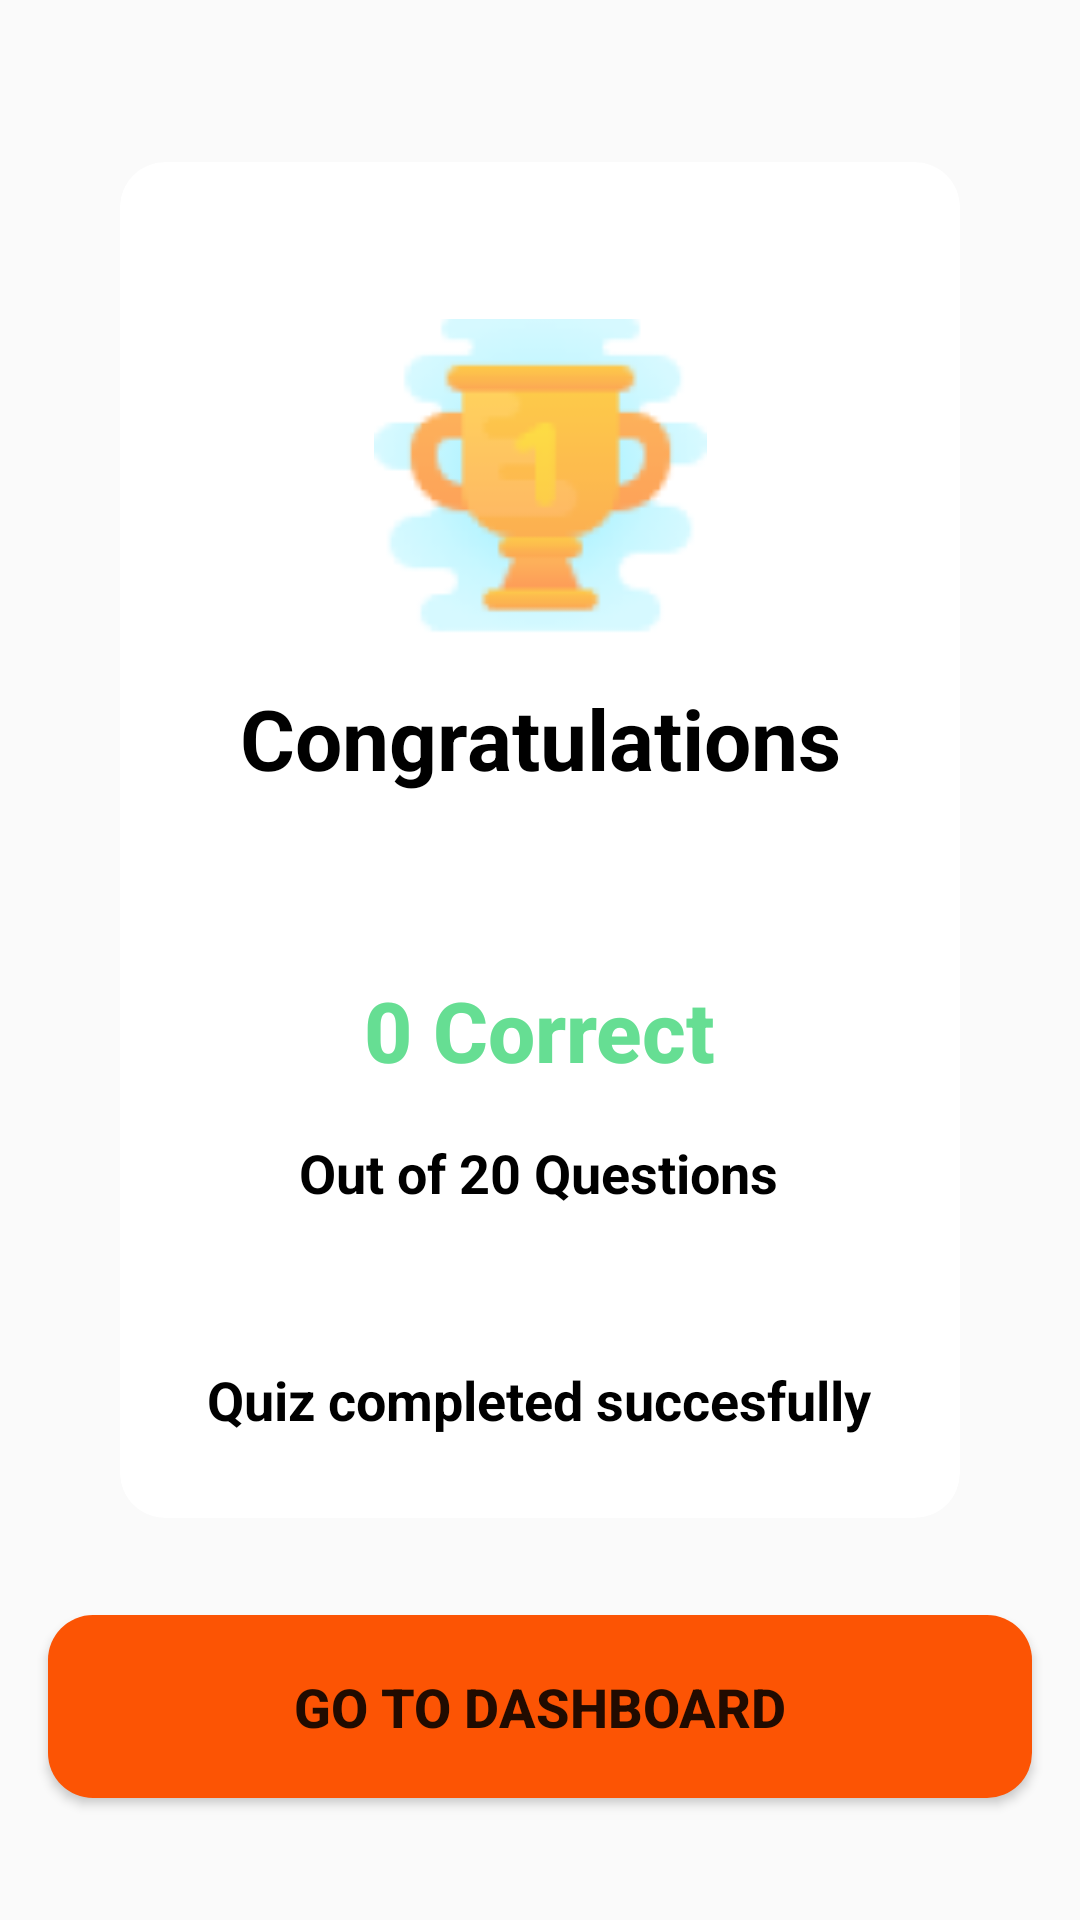

Icons on this 1080w x 1920h Android screen, each with the point to tap as point (x, y):
trophy: point (540, 475)
